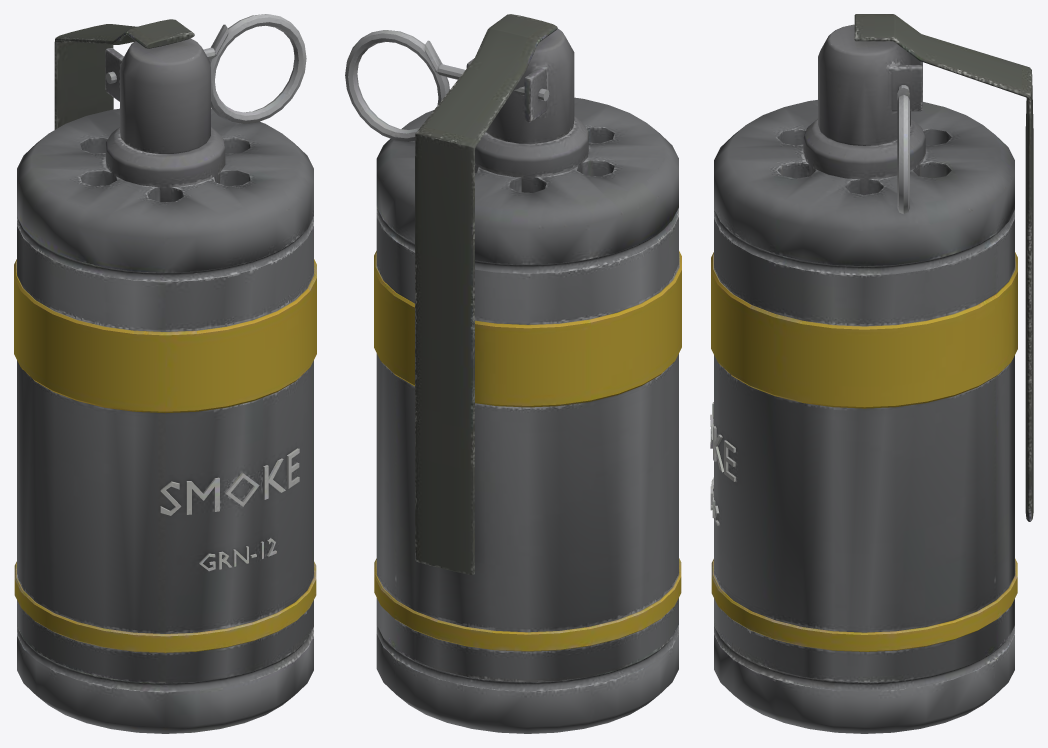
Rendered from yanwu.glb.
3 views of the same model, side by side, from view 1: azimuth 30°, elevation 25°; view 2: azimuth 150°, elevation 25°; view 3: azimuth 270°, elevation 25° (orthographic).
Visible parts, largest first — view 1: body, lever, pin; view 2: body, lever, pin; view 3: body, lever, pin.
Boxes of the visible parts, left/top/right/bottom form: body: left=14, top=38, right=316, bottom=733; lever: left=54, top=19, right=194, bottom=129; pin: left=106, top=14, right=306, bottom=124; body: left=374, top=28, right=681, bottom=733; lever: left=415, top=14, right=557, bottom=574; pin: left=345, top=30, right=549, bottom=141; body: left=710, top=24, right=1017, bottom=733; lever: left=854, top=14, right=1033, bottom=521; pin: left=897, top=85, right=909, bottom=213.
Size of the model in its own units: 0.0699 by 0.1473 by 0.0661.
1 material, 1 textured.
